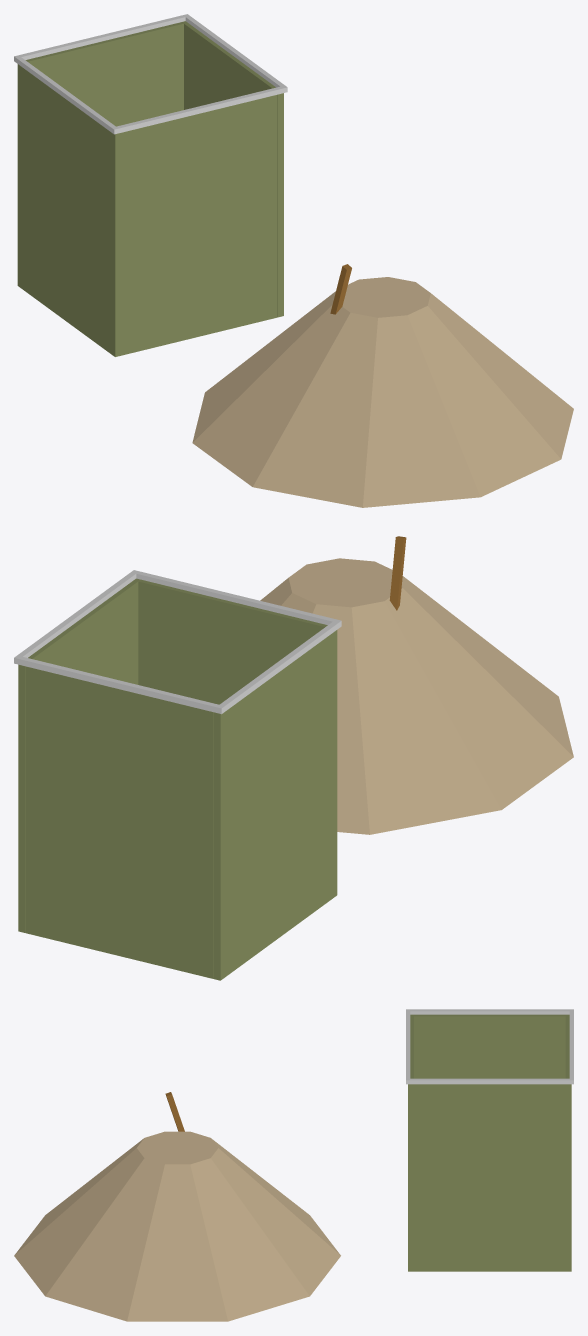
Rendered from SM_ObraHescoAbierto_v0_8m_LOD0.fbx.
The picture shows the model from 3 angles, top to bottom: view 1: azimuth 30°, elevation 25°; view 2: azimuth 150°, elevation 25°; view 3: azimuth 270°, elevation 25°; orthographic projection. The views are drawn at different scales.
Visible parts, largest first — view 1: SM_obra_curso_v20_LOD0; view 2: SM_obra_curso_v20_LOD0; view 3: SM_obra_curso_v20_LOD0.
Part boxes in pixels (x1,y1,x2,y2): SM_obra_curso_v20_LOD0: [14, 14, 573, 507]; SM_obra_curso_v20_LOD0: [14, 536, 573, 980]; SM_obra_curso_v20_LOD0: [14, 1009, 573, 1321].
Size of the model in its own units: 2.09 by 1.44 by 3.76.
